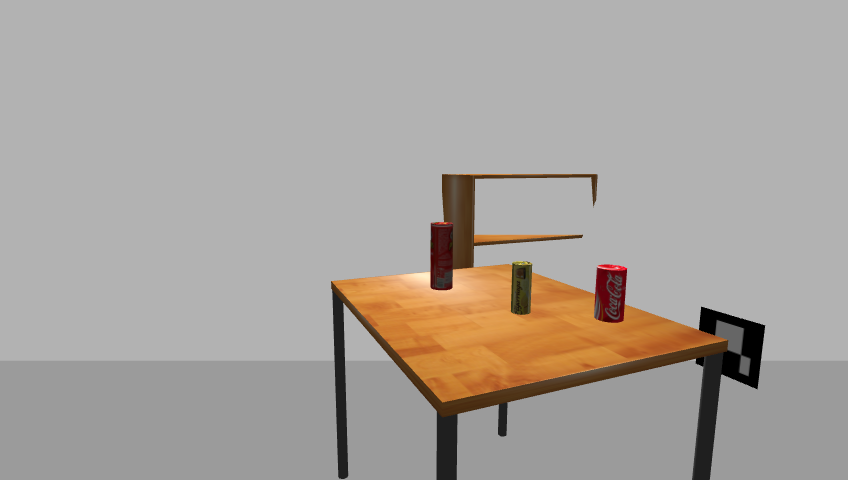aruco marker: (692, 305, 770, 391)
biscuits pack: (510, 261, 534, 316)
bookshelf: (437, 170, 604, 334)
coke can: (593, 264, 629, 324)
dinner table: (322, 264, 733, 480)
pringles can: (428, 221, 455, 292)
